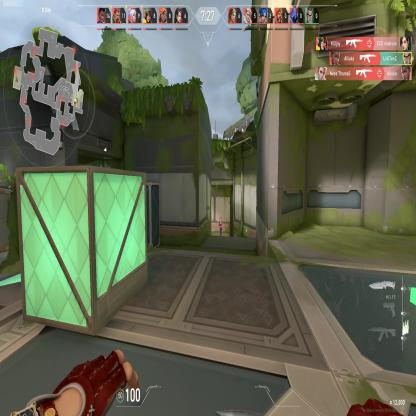enemy: (217, 215, 223, 236)
